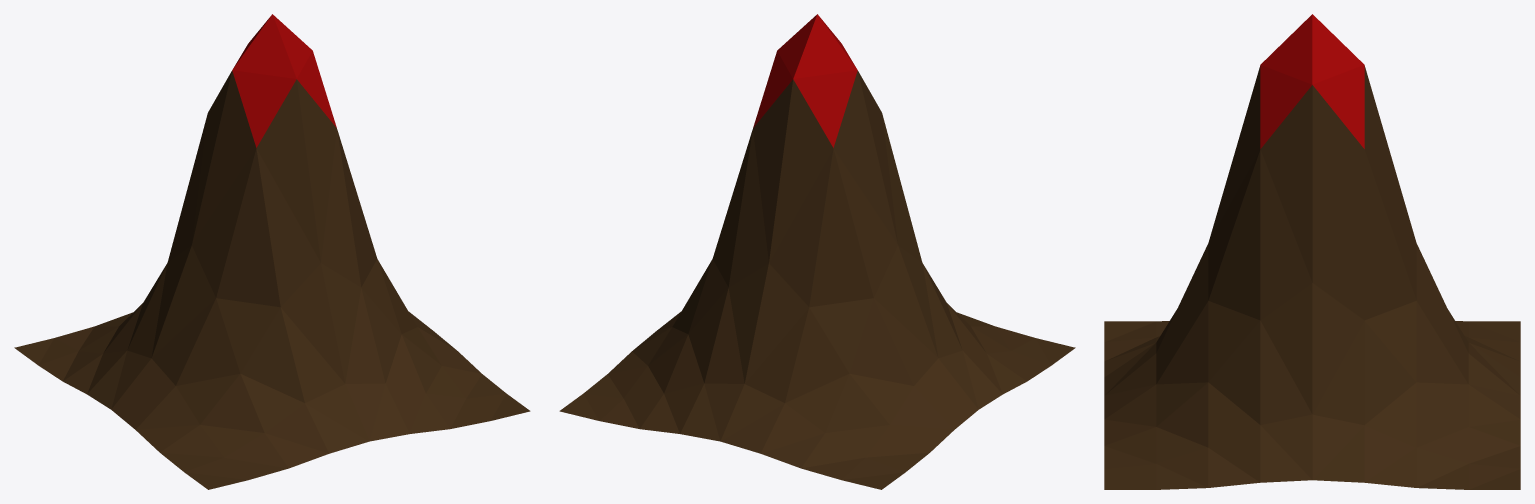
File: volcano.obj
The picture shows the model from 3 angles, left to right: view 1: azimuth 30°, elevation 25°; view 2: azimuth 150°, elevation 25°; view 3: azimuth 270°, elevation 25°; orthographic projection. The views are drawn at different scales.
Size of the model in its own units: 11.94 by 12.93 by 12.45.
